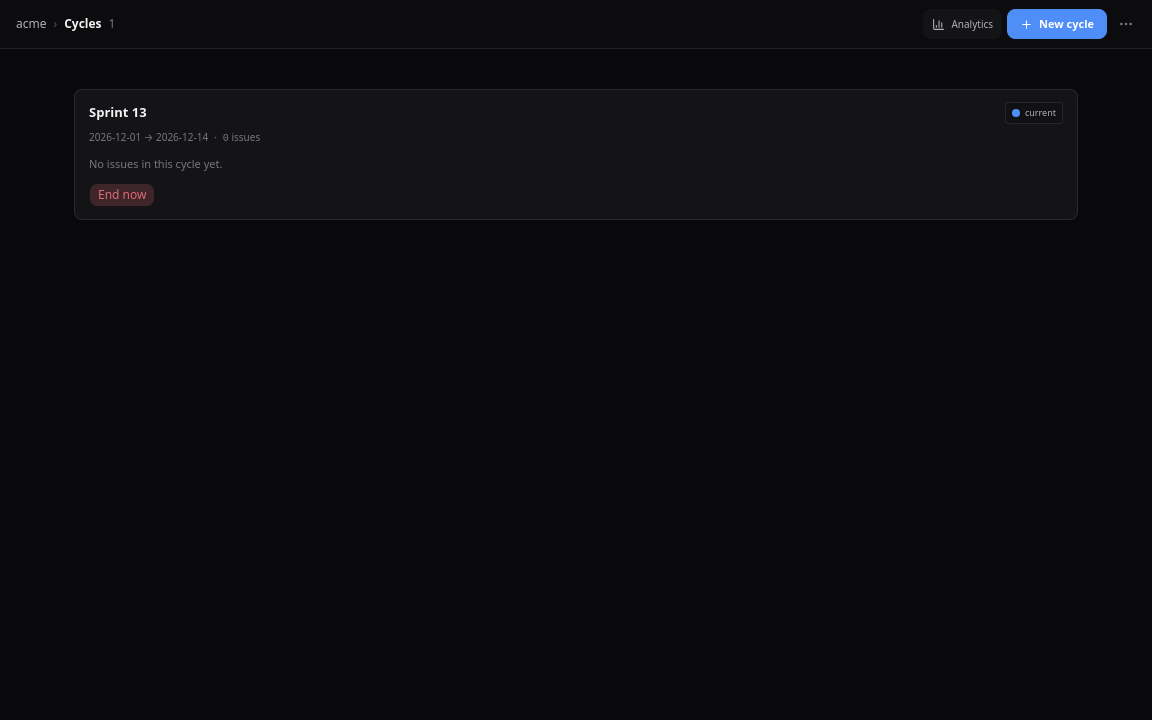
Test case: manual start/end actions (C79T1) › a 400 on end keeps the dialog open with the message inline
Click the button "End now".
click(122, 194)  # box [89,182,156,206]
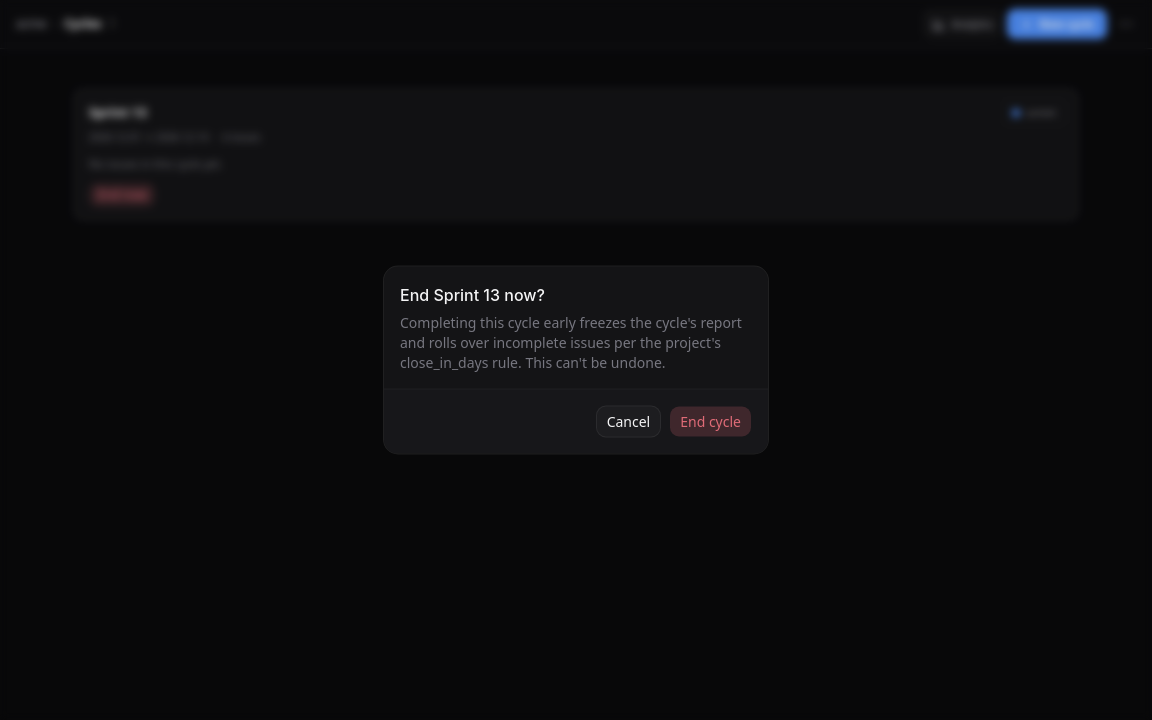
Expected: the text "freezes the cycle's report" is shown, [400,312,742,372]
Click the button "End cycle".
click(711, 422)  # box [669,406,752,438]
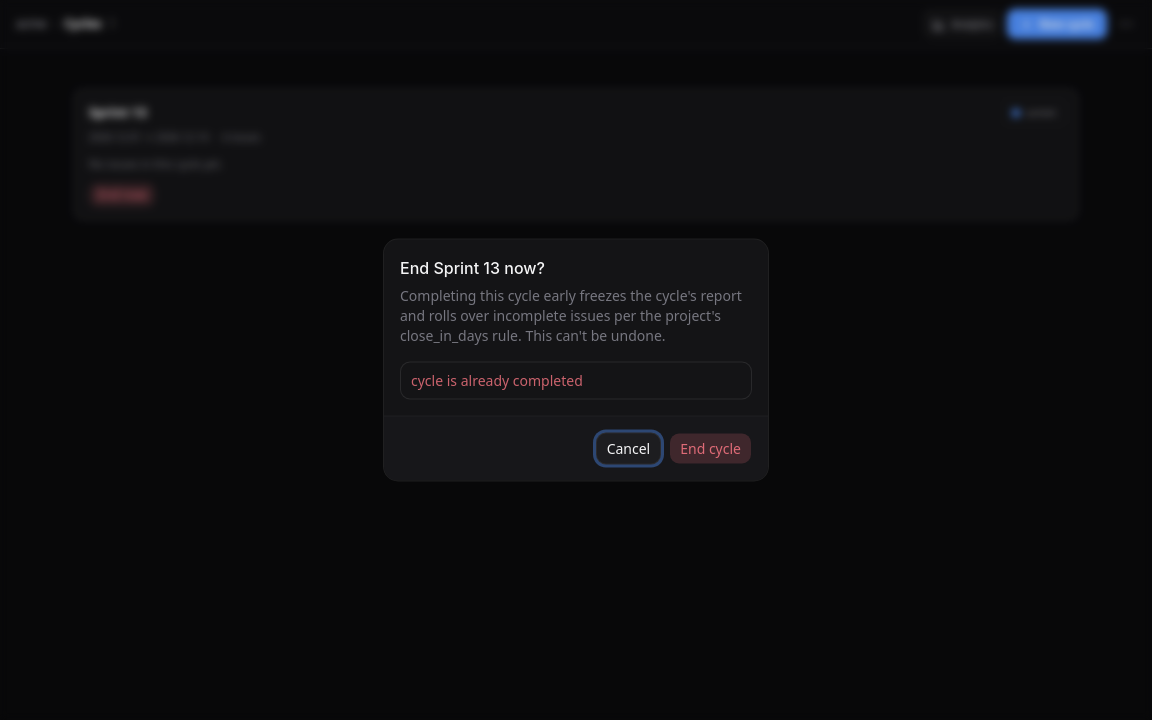
Expected: the text "freezes the cycle's report" is shown, [400,286,742,344]
Expected: the button "End cycle" is shown, [669,432,752,464]
Expected: the text "cycle is already completed" is shown, [411,370,583,390]
